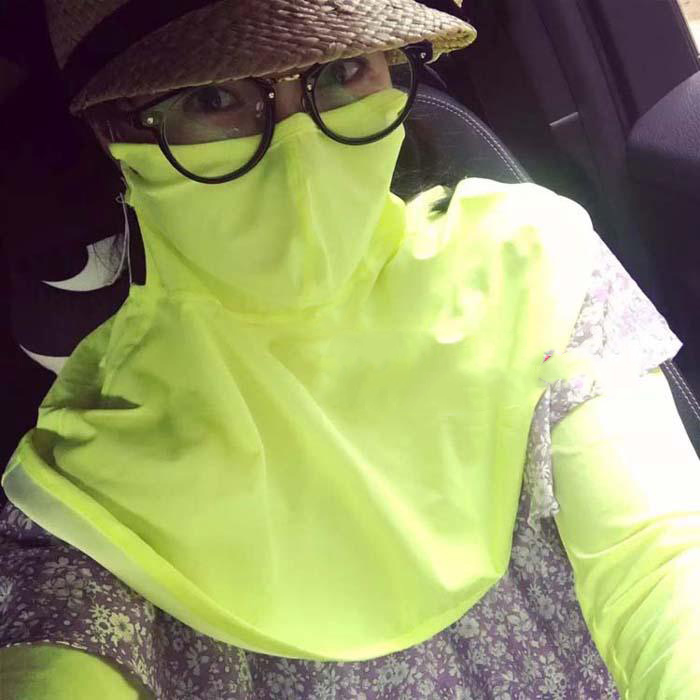face_mask: (137, 0, 418, 313)
